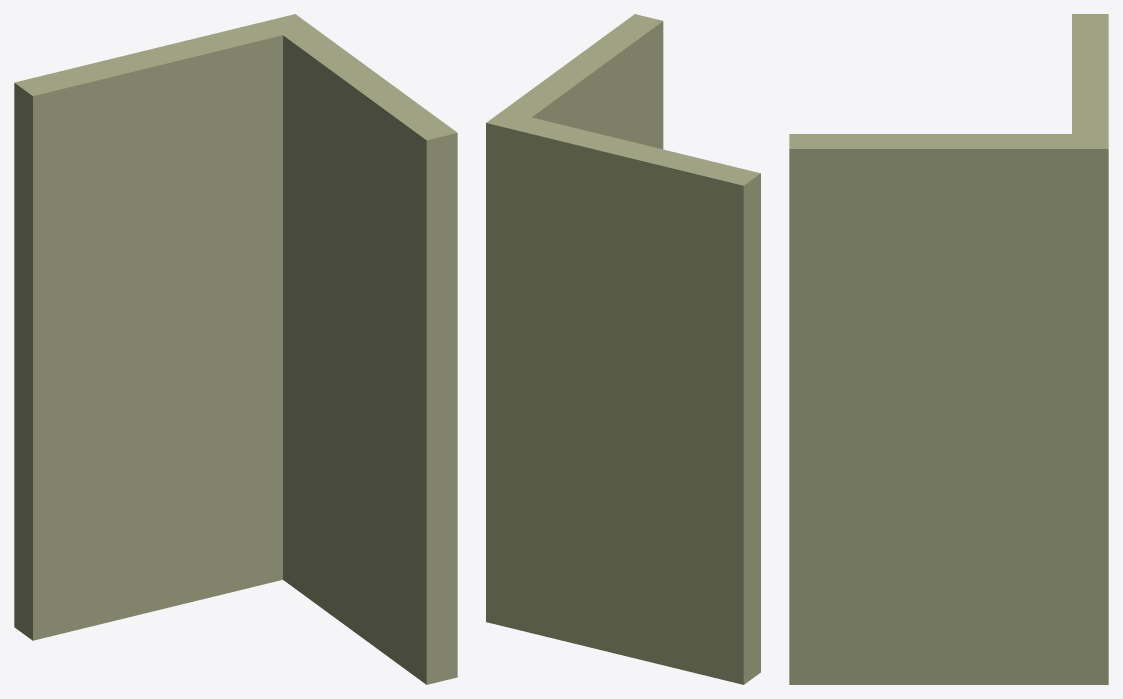
Rendered from Wall_22.fbx.
3 views of the same model, side by side, from view 1: azimuth 30°, elevation 25°; view 2: azimuth 150°, elevation 25°; view 3: azimuth 270°, elevation 25° (orthographic). The views are drawn at different scales.
Visible parts, largest first — view 1: Wall_22; view 2: Wall_22; view 3: Wall_22.
Boxes of the visible parts, x1,y1,x2,y2 form: Wall_22: (14,14,457,684); Wall_22: (486,14,760,684); Wall_22: (789,14,1108,684).
Size of the model in its own units: 140 by 259 by 140.
